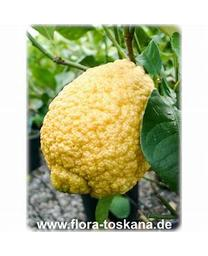lemon: (40, 59, 153, 195)
